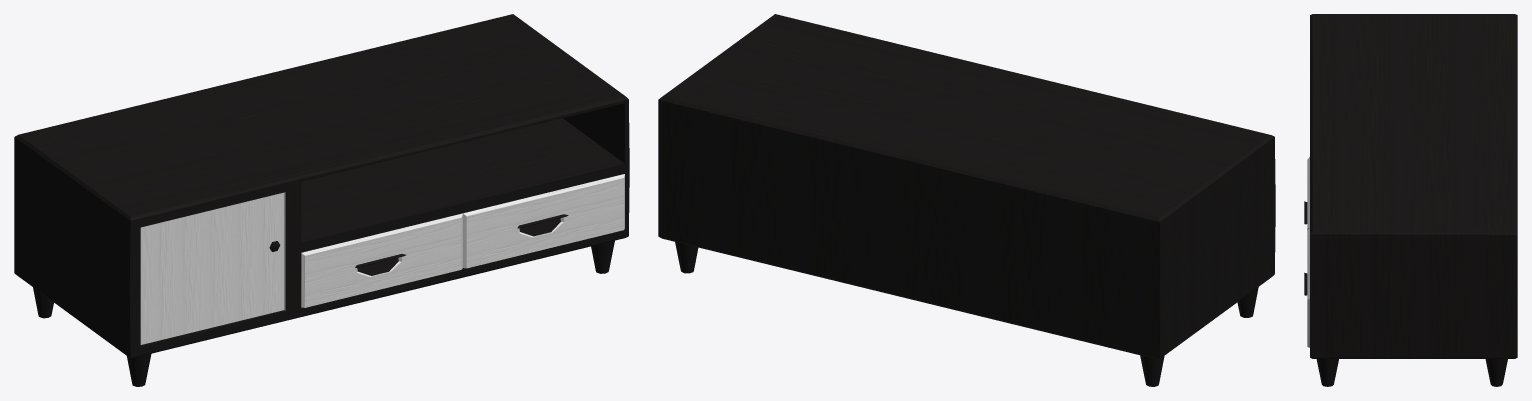
Rendered from Television_Stand_04.FBX.
3 views of the same model, side by side, from view 1: azimuth 30°, elevation 25°; view 2: azimuth 150°, elevation 25°; view 3: azimuth 270°, elevation 25° (orthographic). The views are drawn at different scales.
Parts seen in each view (by area): view 1: Television_Stand; view 2: Television_Stand; view 3: Television_Stand.
Boxes of the visible parts, bbox=[...] form: Television_Stand: bbox=[14, 14, 629, 386]; Television_Stand: bbox=[658, 14, 1275, 386]; Television_Stand: bbox=[1304, 14, 1517, 386].
Bounding box in the file's own units: 425 × 144 × 175.
